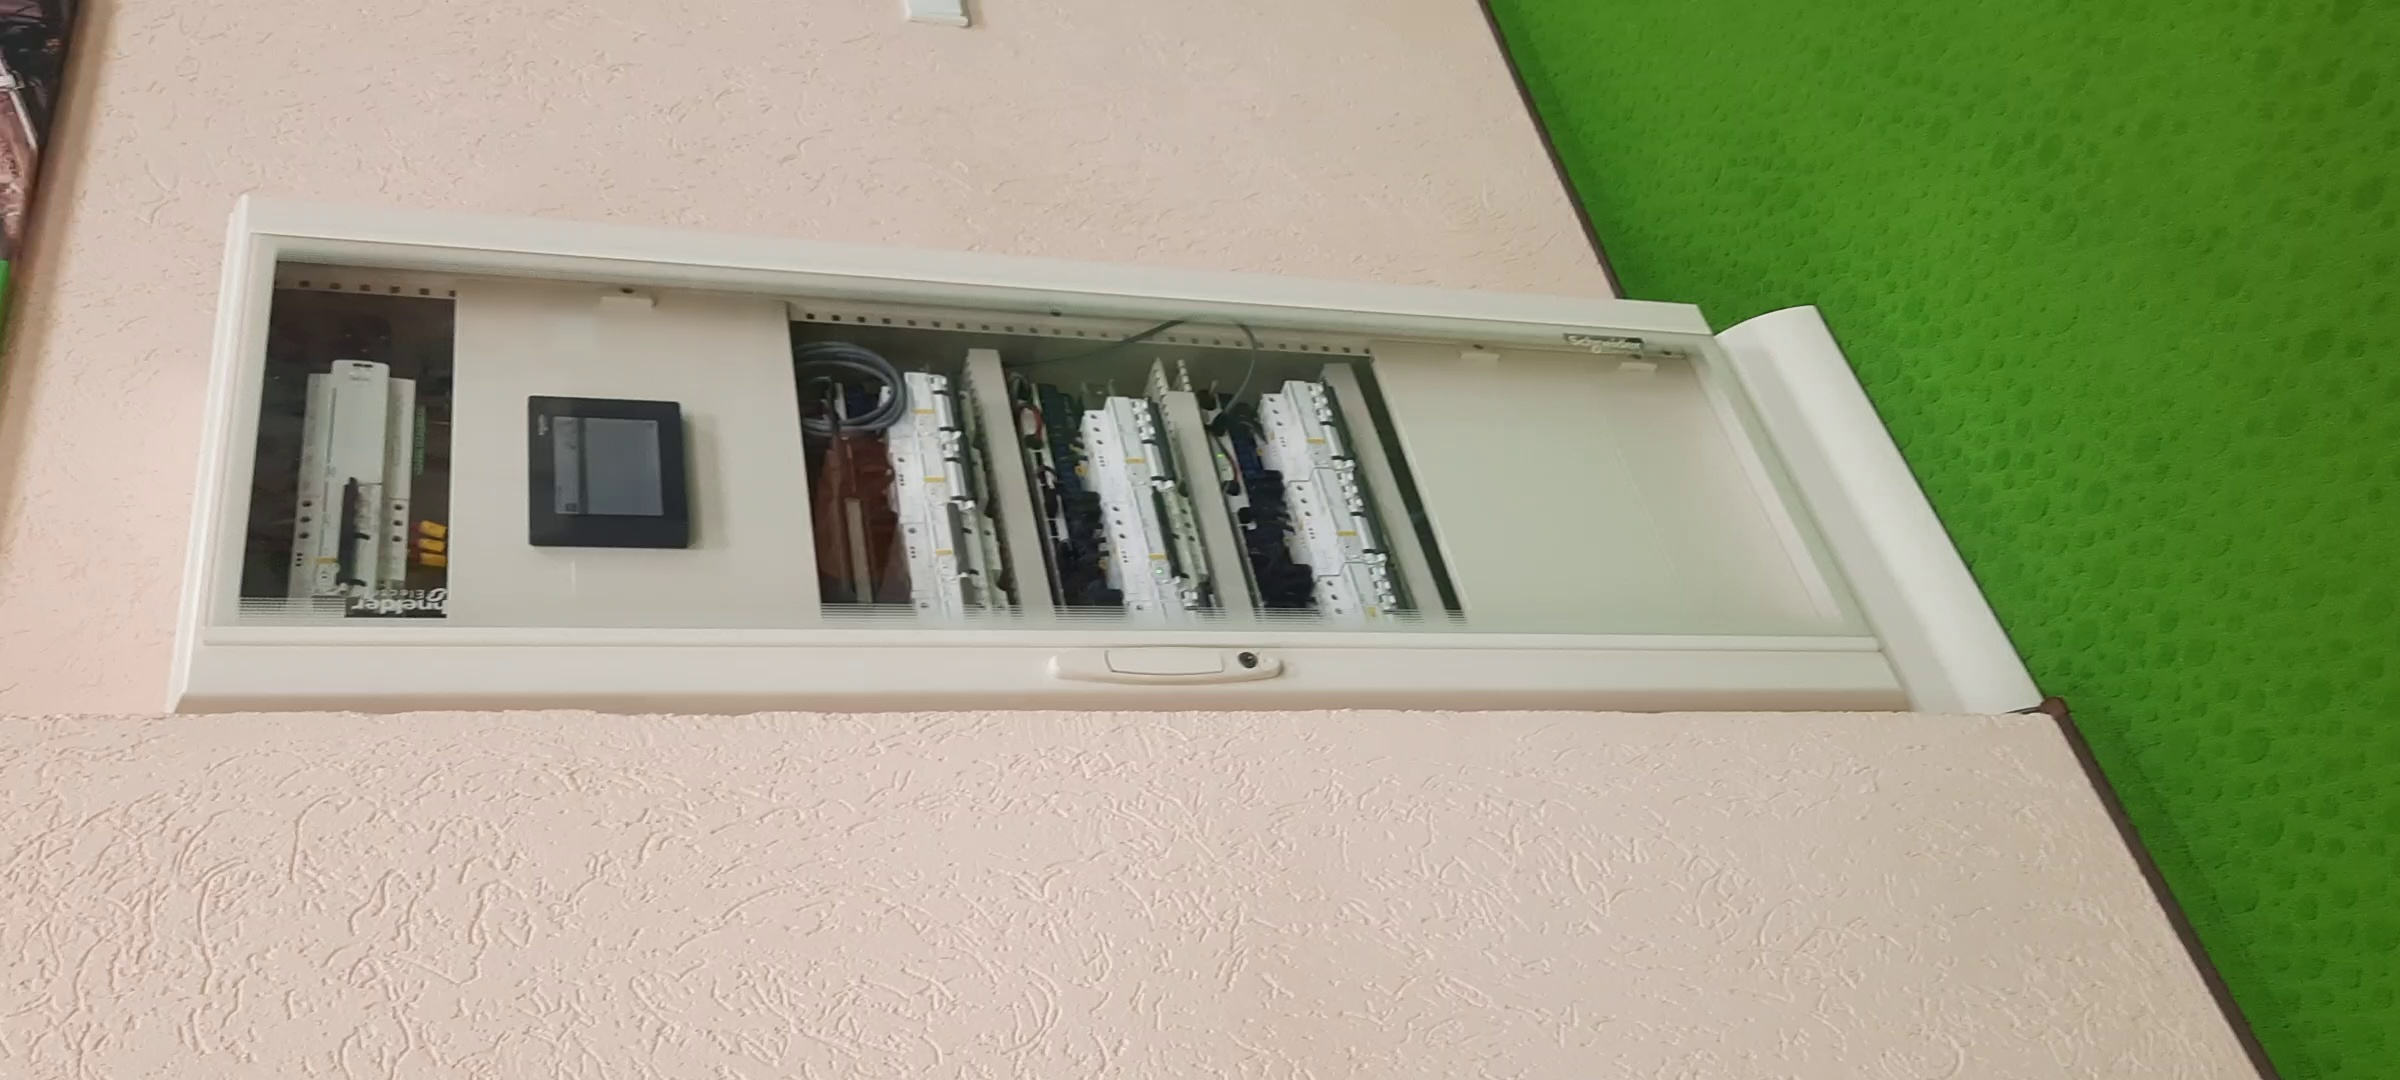smart_stand: (165, 177, 2062, 717)
